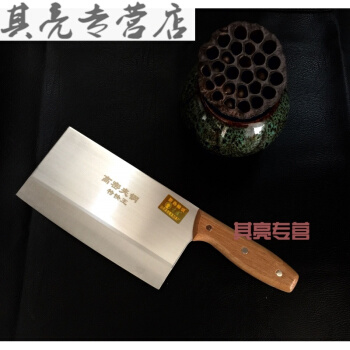knief: (27, 126, 308, 306)
